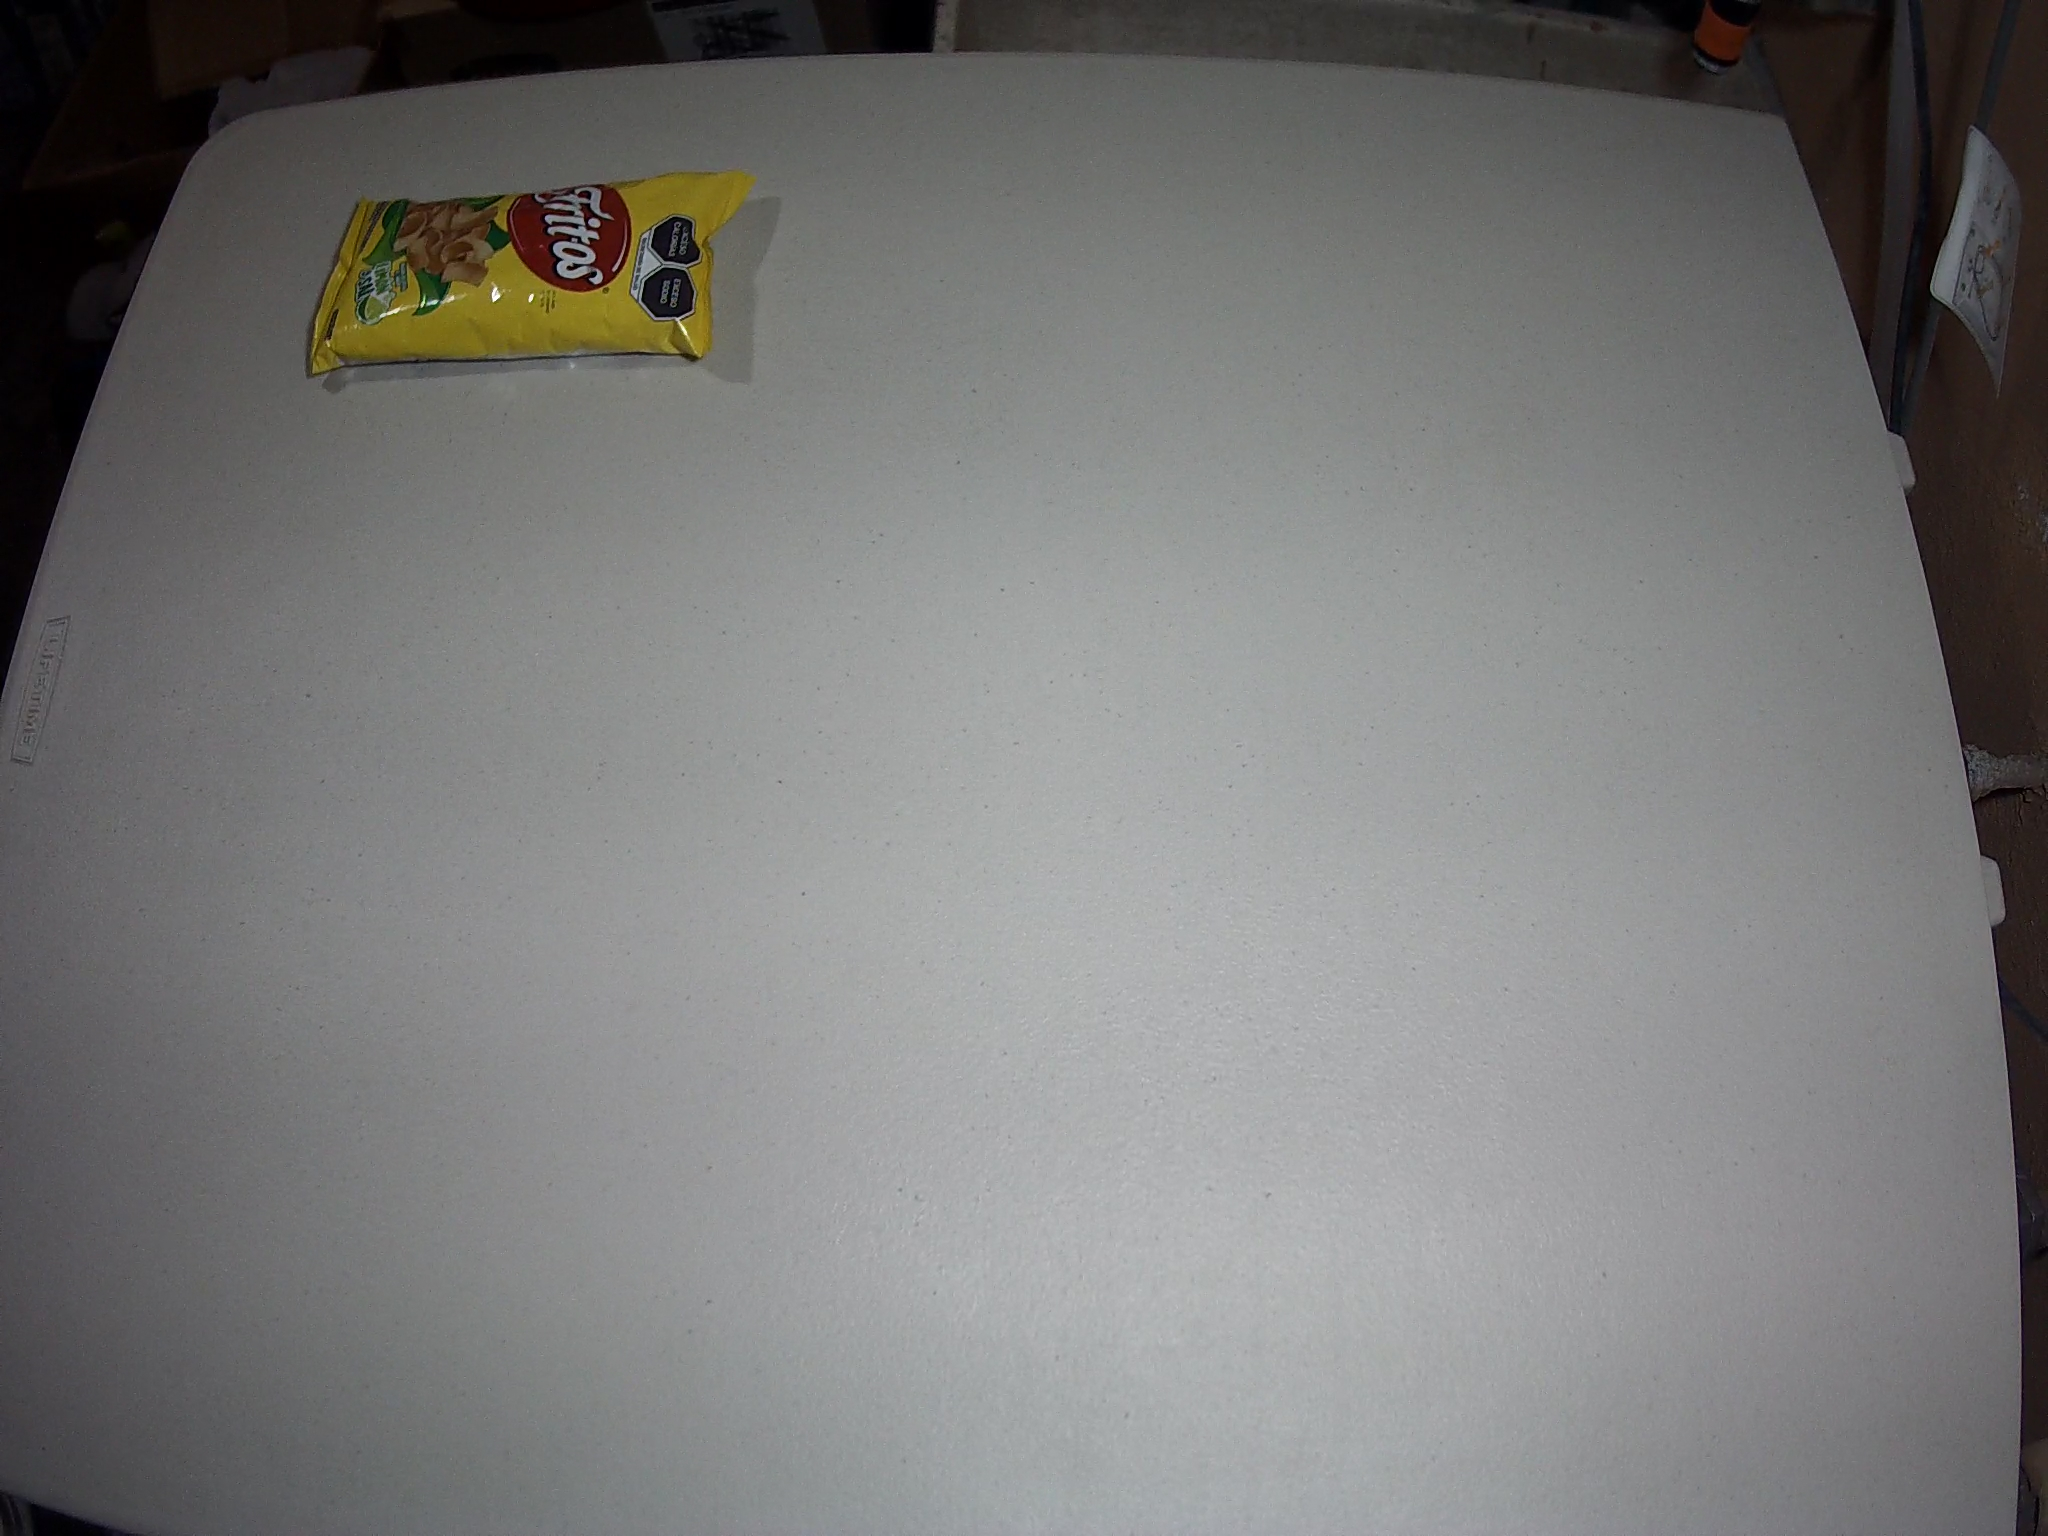FritosSalLimon_65_F: (306, 169, 760, 378)
